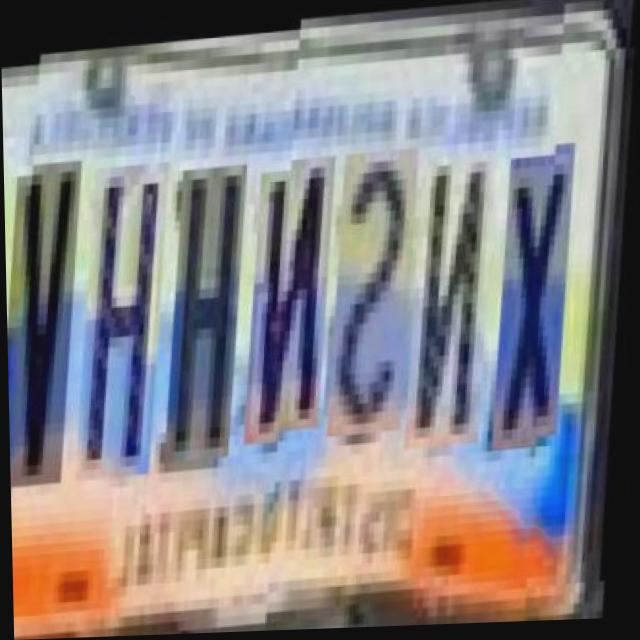h: (77, 147, 177, 465), (166, 150, 255, 448)
n: (405, 152, 504, 451), (245, 154, 343, 431)
s: (328, 148, 426, 436)
v: (3, 144, 90, 471)
x: (493, 157, 583, 454)
